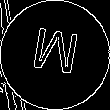M_S: (28, 26, 82, 84)
